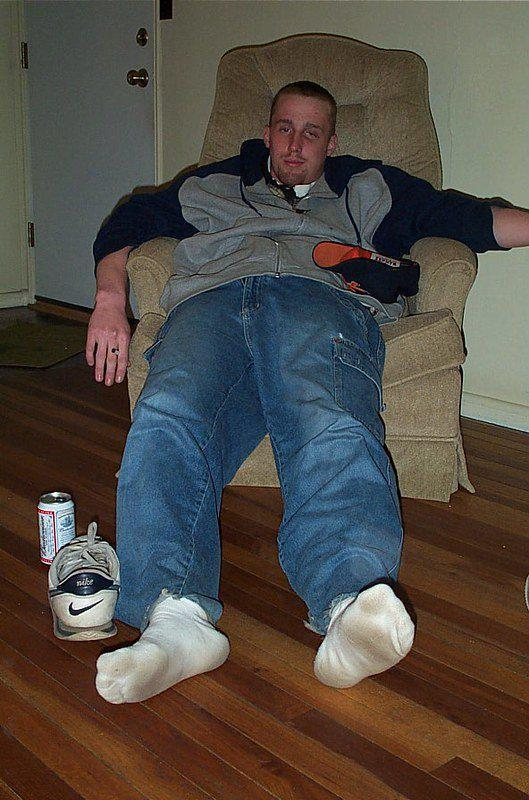Drunk: (264, 99, 332, 172)
